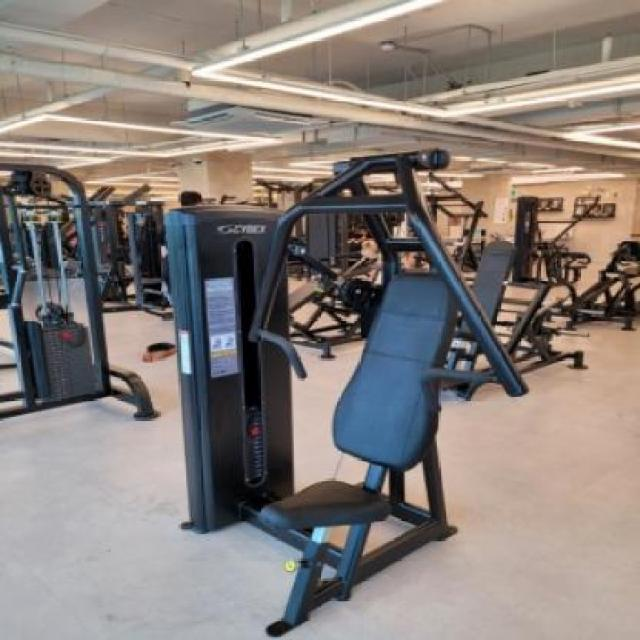Chest Press machine: (136, 143, 550, 640)
